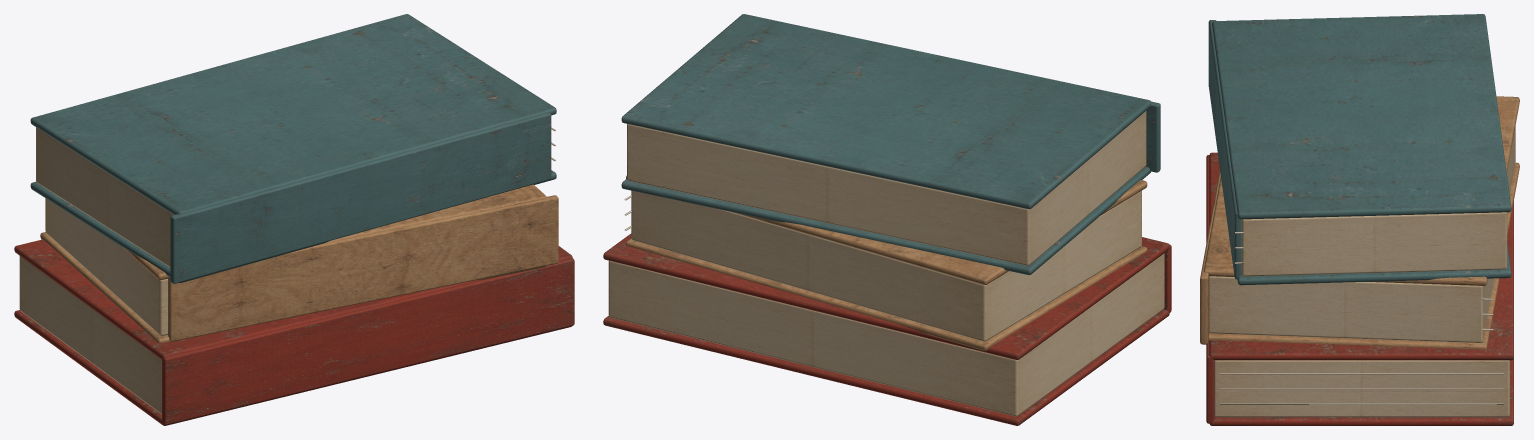
File: SM_FacilityRooms_BookStack.fbx
3 renders of one model, left to right at view 1: azimuth 30°, elevation 25°; view 2: azimuth 150°, elevation 25°; view 3: azimuth 270°, elevation 25°, orthographic.
Visible parts, largest first — view 1: SM_FacilityRooms_BookStack; view 2: SM_FacilityRooms_BookStack; view 3: SM_FacilityRooms_BookStack.
Part boxes in pixels (x1=…): SM_FacilityRooms_BookStack: x1=14, y1=14, x2=574, y2=425; SM_FacilityRooms_BookStack: x1=603, y1=14, x2=1171, y2=425; SM_FacilityRooms_BookStack: x1=1200, y1=14, x2=1519, y2=425.
Size of what is drawn, in the model's own units: 45 by 30 by 22.
